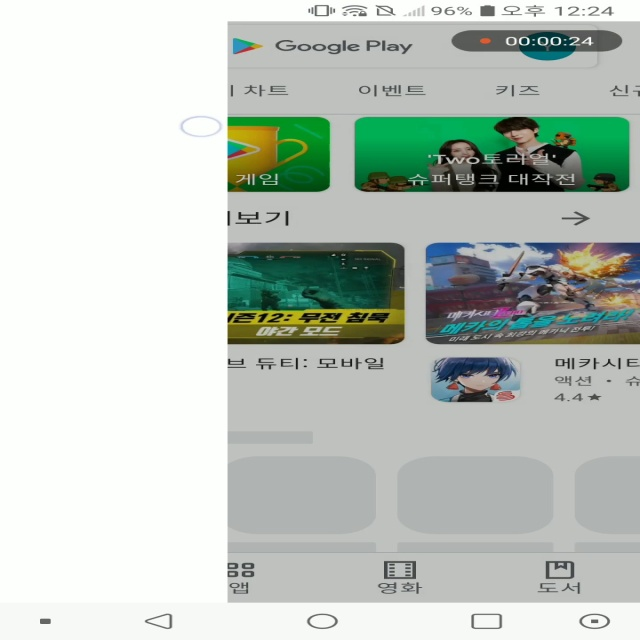Cursor: (180, 116, 224, 138)
